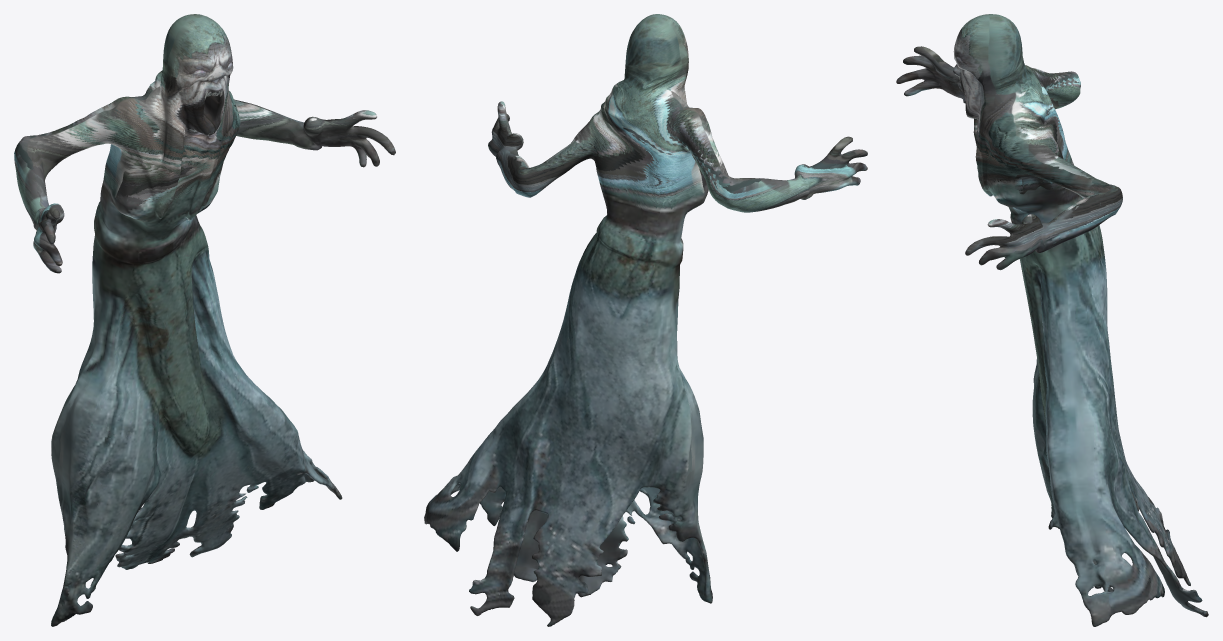
File: varlariel-overview-v1.glb
3 views of the same model, side by side, from view 1: azimuth 30°, elevation 25°; view 2: azimuth 150°, elevation 25°; view 3: azimuth 270°, elevation 25° (orthographic). The views are drawn at different scales.
Parts seen in each view (by area): view 1: varlariel; view 2: varlariel; view 3: varlariel.
Boxes of the visible parts, x1,y1,x2,y2 form: varlariel: (14, 14, 395, 626); varlariel: (424, 14, 867, 626); varlariel: (896, 14, 1208, 626).
Size of the model in its own units: 1.33 by 1.98 by 0.9957.
1 material, 1 textured.
